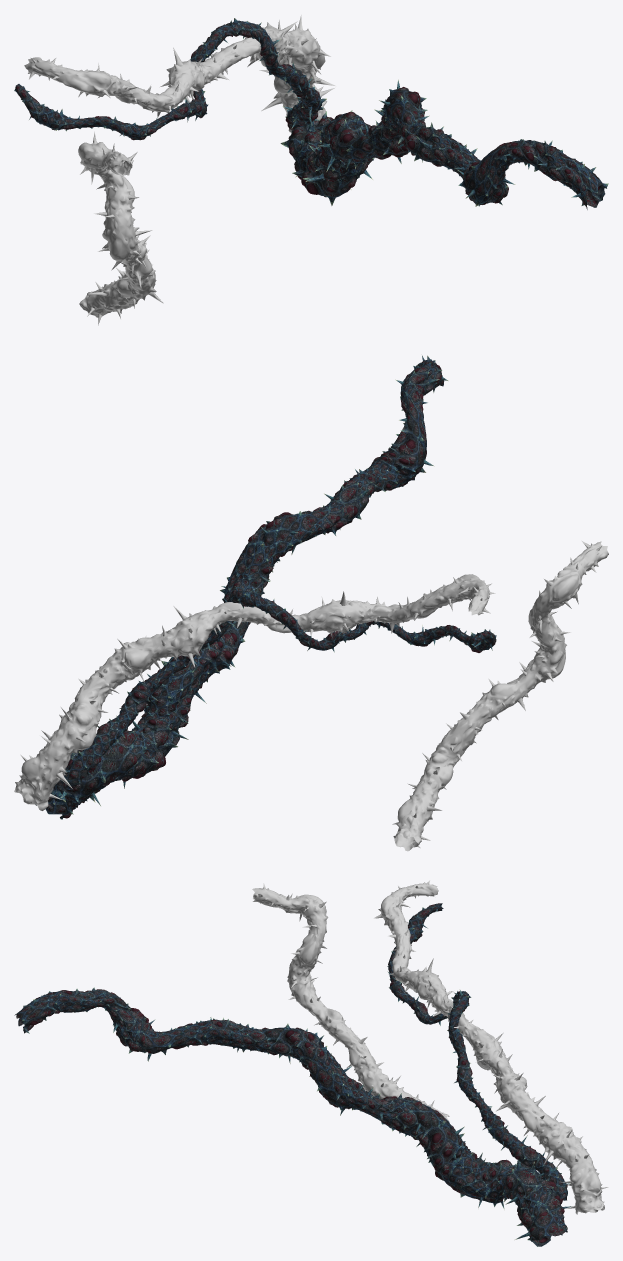
The model's file is backup.fbx.
3 views of the same model, one above another, from view 1: azimuth 30°, elevation 25°; view 2: azimuth 150°, elevation 25°; view 3: azimuth 270°, elevation 25° (orthographic). The views are drawn at different scales.
Visible parts, largest first — view 1: LODGroup_1_MainMesh_1_SubMesh_4, LODGroup_1_MainMesh_1_SubMesh_2, LODGroup_1_MainMesh_1_SubMesh_1, LODGroup_1_MainMesh_1_SubMesh_3; view 2: LODGroup_1_MainMesh_1_SubMesh_4, LODGroup_1_MainMesh_1_SubMesh_2, LODGroup_1_MainMesh_1_SubMesh_3, LODGroup_1_MainMesh_1_SubMesh_1; view 3: LODGroup_1_MainMesh_1_SubMesh_4, LODGroup_1_MainMesh_1_SubMesh_2, LODGroup_1_MainMesh_1_SubMesh_3, LODGroup_1_MainMesh_1_SubMesh_1.
Boxes of the visible parts, box(x1,y1,x2,y2) form: LODGroup_1_MainMesh_1_SubMesh_4: box(24, 15, 335, 325); LODGroup_1_MainMesh_1_SubMesh_2: box(287, 79, 605, 207); LODGroup_1_MainMesh_1_SubMesh_1: box(14, 18, 326, 140); LODGroup_1_MainMesh_1_SubMesh_3: box(280, 89, 608, 209); LODGroup_1_MainMesh_1_SubMesh_4: box(14, 540, 608, 851); LODGroup_1_MainMesh_1_SubMesh_2: box(35, 355, 448, 805); LODGroup_1_MainMesh_1_SubMesh_3: box(45, 355, 444, 819); LODGroup_1_MainMesh_1_SubMesh_1: box(60, 586, 496, 789); LODGroup_1_MainMesh_1_SubMesh_4: box(252, 880, 608, 1214); LODGroup_1_MainMesh_1_SubMesh_2: box(23, 987, 572, 1240); LODGroup_1_MainMesh_1_SubMesh_3: box(14, 990, 562, 1246); LODGroup_1_MainMesh_1_SubMesh_1: box(387, 903, 570, 1200).
Bounding box in the file's own units: 2524 × 1597 × 3703.
